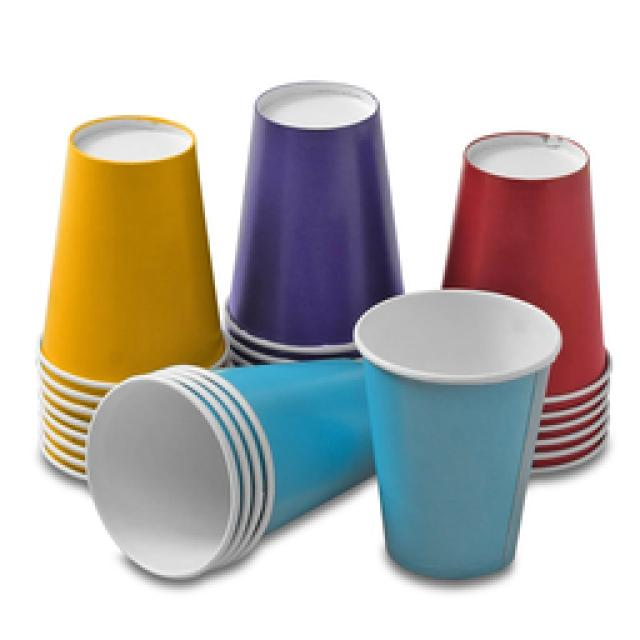paper_cups: (39, 115, 228, 472), (97, 355, 375, 581), (444, 130, 618, 482), (354, 289, 556, 583), (224, 85, 403, 358)
